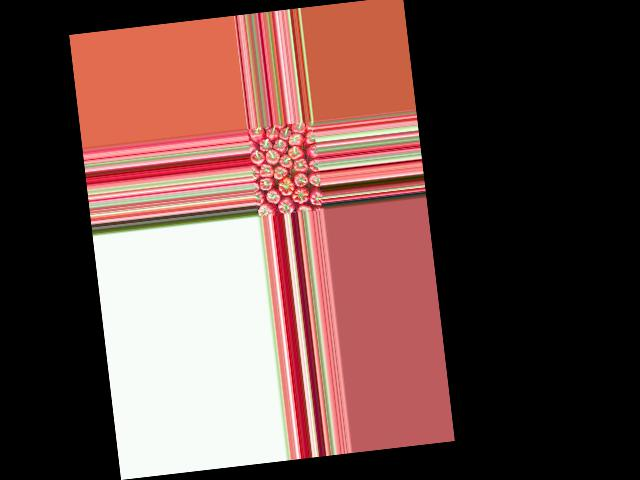bell_pepper: (248, 127, 264, 143)
